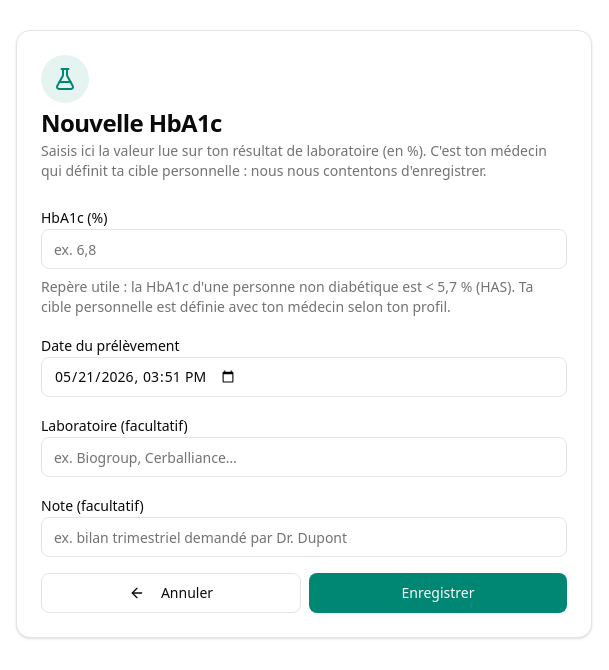
Test: <HbA1cNewPage /> › rejects a value above HBA1C_MAX
Type "25" into the number field labelled "HbA1c (%)".
click(304, 249); type("25")  # box [41,229,567,269]
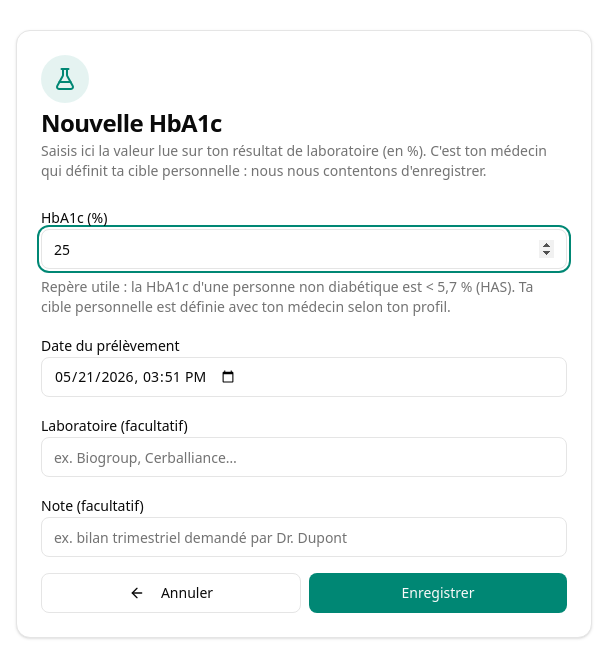
Click the button "Enregistrer".
click(438, 593)  # box [309,573,567,613]
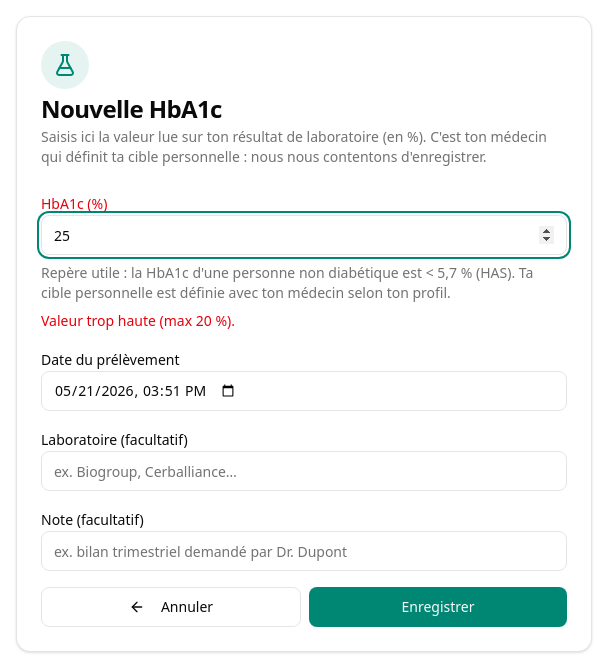
Expected: the text "Valeur trop haute (max 20 %)." is shown, [41,311,235,330]
